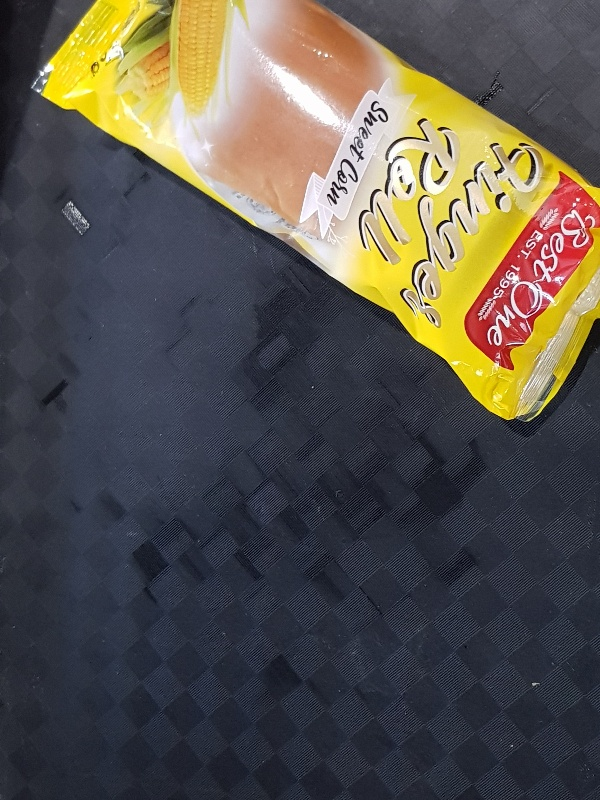Tinges Roll Sweet Corn: (27, 1, 600, 425)
